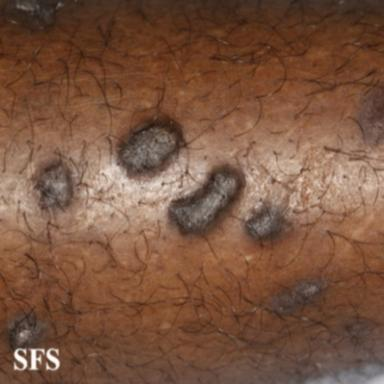lichen: (168, 165, 244, 232), (118, 115, 185, 178), (269, 278, 326, 315), (31, 160, 73, 209), (5, 0, 65, 30), (245, 201, 292, 239), (357, 86, 384, 147), (7, 311, 47, 348)
